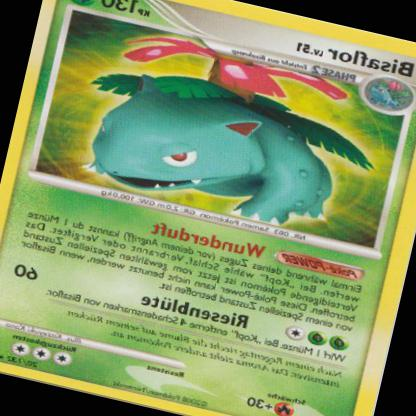Venusaur: (70, 29, 355, 237)
